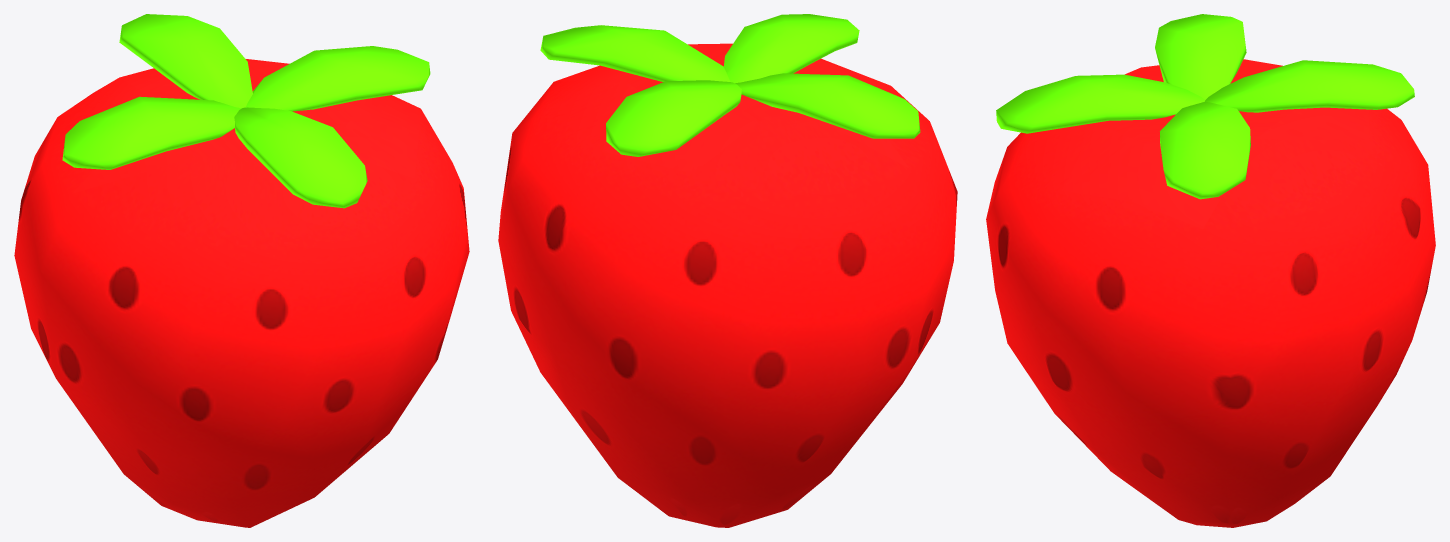
File: red_strawberry.glb
3 views of the same model, side by side, from view 1: azimuth 30°, elevation 25°; view 2: azimuth 150°, elevation 25°; view 3: azimuth 270°, elevation 25° (orthographic). The views are drawn at different scales.
Visible parts, largest first — view 1: Red_Strawberry; view 2: Red_Strawberry; view 3: Red_Strawberry.
Part boxes in pixels (x1,y1,x2,y2): Red_Strawberry: (14, 14, 469, 527); Red_Strawberry: (498, 14, 957, 527); Red_Strawberry: (986, 14, 1435, 527).
Bounding box in the file's own units: 0.4079 × 0.4281 × 0.3947.
1 material, 1 textured.
